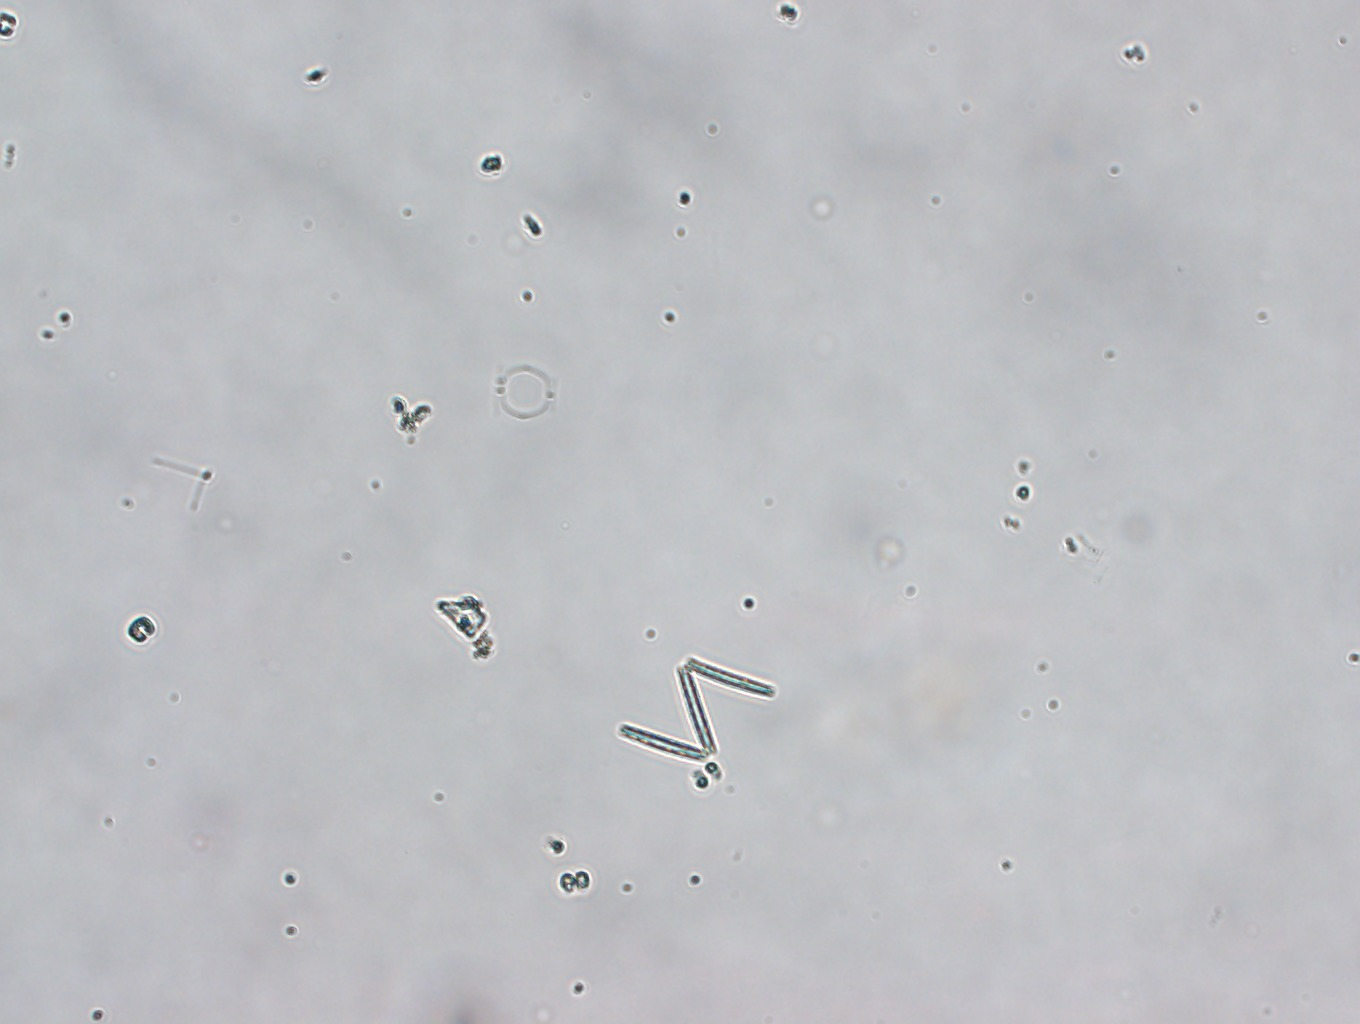thalassionema nitzschioides: (607, 648, 781, 767)
